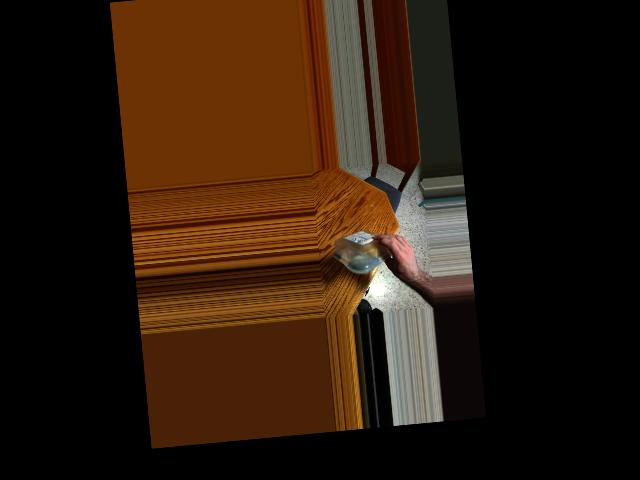cheese: (335, 228, 401, 270)
